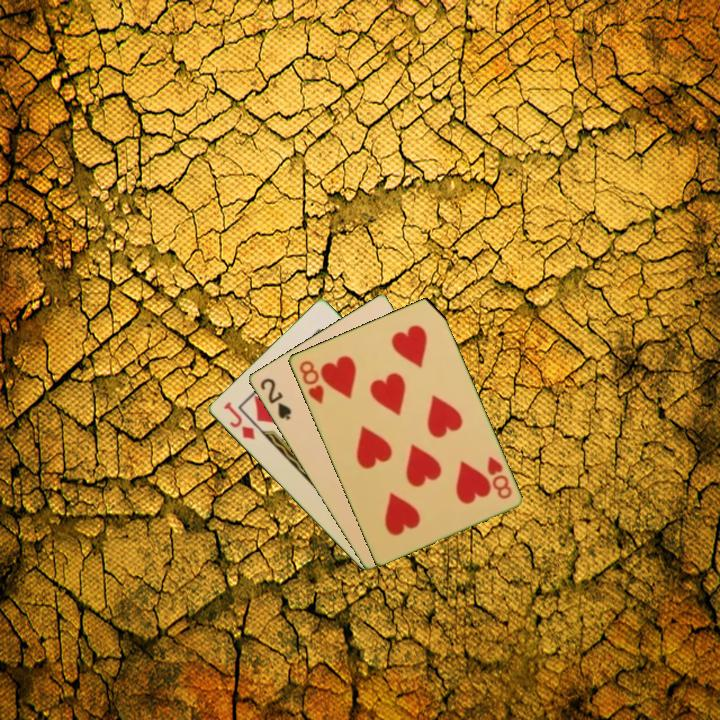2s: (256, 374, 294, 423)
8h: (483, 453, 515, 502), (295, 357, 326, 406)
Jd: (219, 398, 258, 443)
